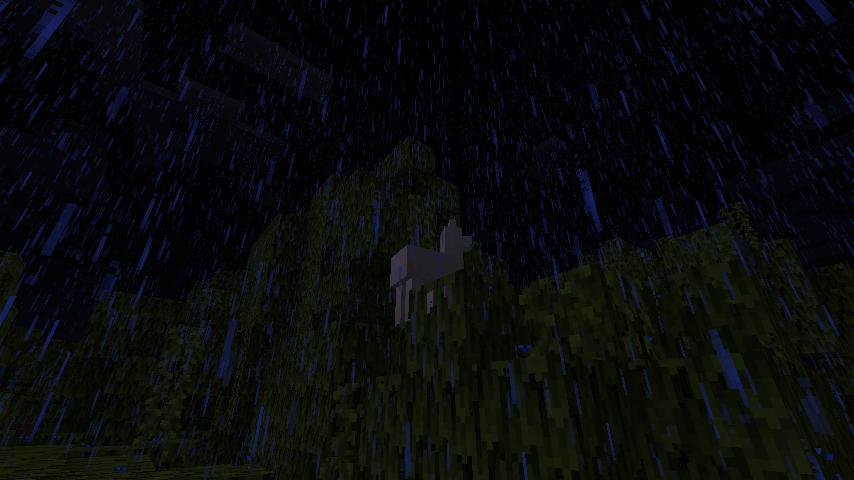llama: (385, 218, 477, 323)
